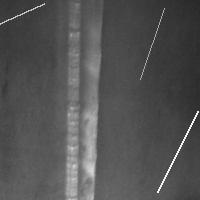scratches: (62, 1, 107, 199), (152, 106, 200, 197), (135, 3, 169, 84), (0, 0, 49, 49)
